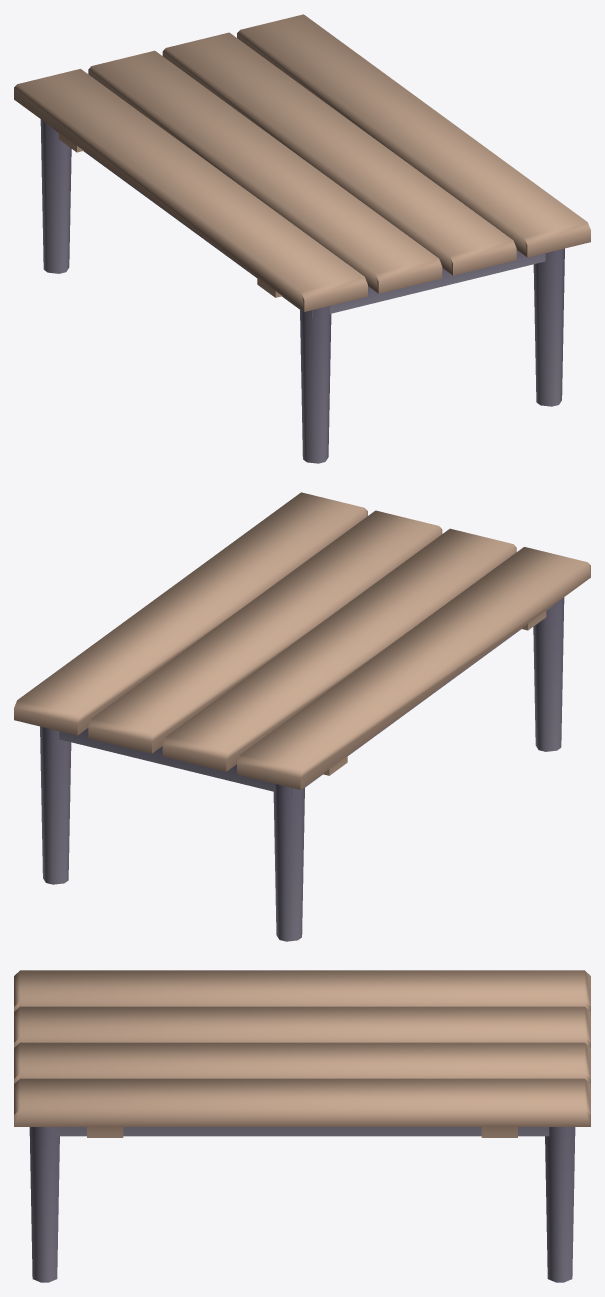
File: table-planks-rectangle.glb
3 views of the same model, one above another, from view 1: azimuth 30°, elevation 25°; view 2: azimuth 150°, elevation 25°; view 3: azimuth 270°, elevation 25° (orthographic).
Parts seen in each view (by area): view 1: table-planks-rectangle; view 2: table-planks-rectangle; view 3: table-planks-rectangle.
Part boxes in pixels (x1,y1,x2,y2): table-planks-rectangle: [14, 14, 590, 463]; table-planks-rectangle: [14, 492, 590, 941]; table-planks-rectangle: [14, 970, 590, 1282].
Bounding box in the file's own units: 0.798 × 0.4834 × 1.4.
